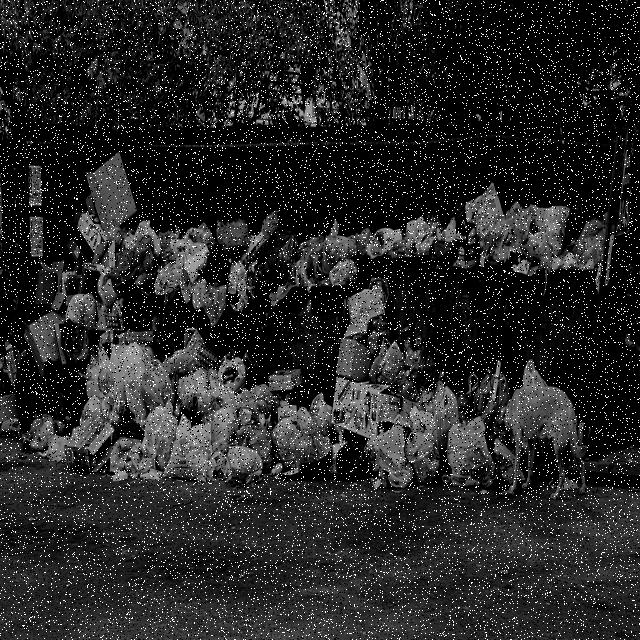Trashcan: (506, 180, 620, 477), (431, 186, 522, 442), (268, 214, 363, 454), (364, 200, 444, 470), (106, 227, 209, 417), (196, 215, 284, 434)
